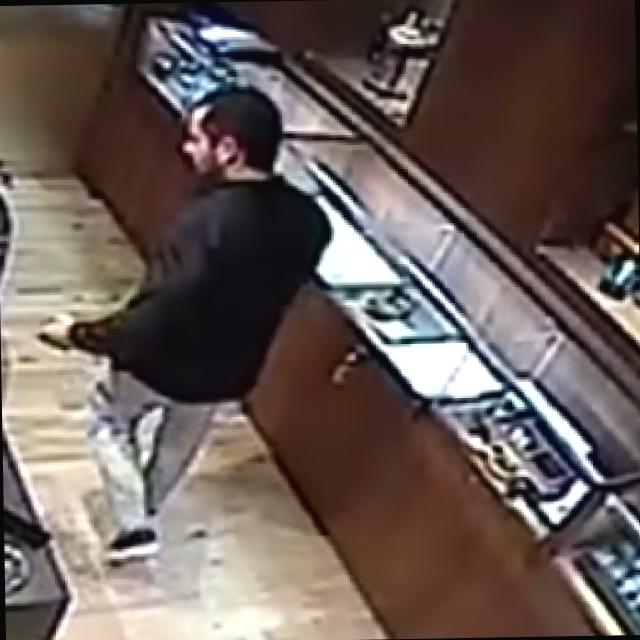person: (28, 80, 336, 573)
